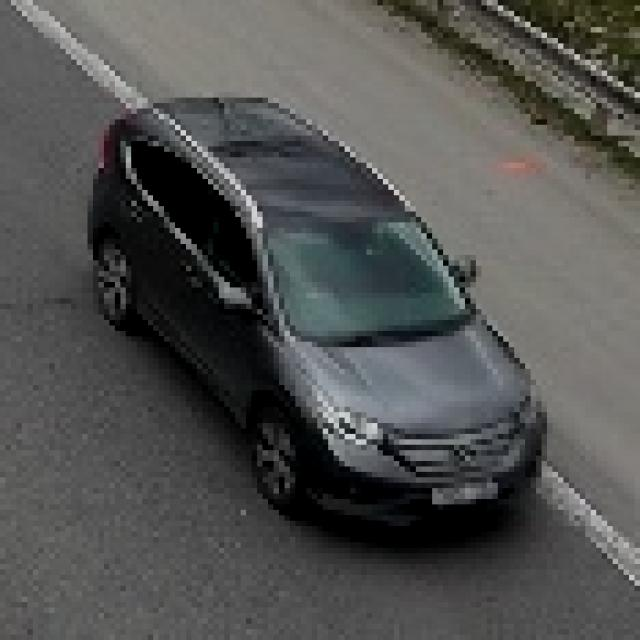SUV: (94, 106, 546, 526)
